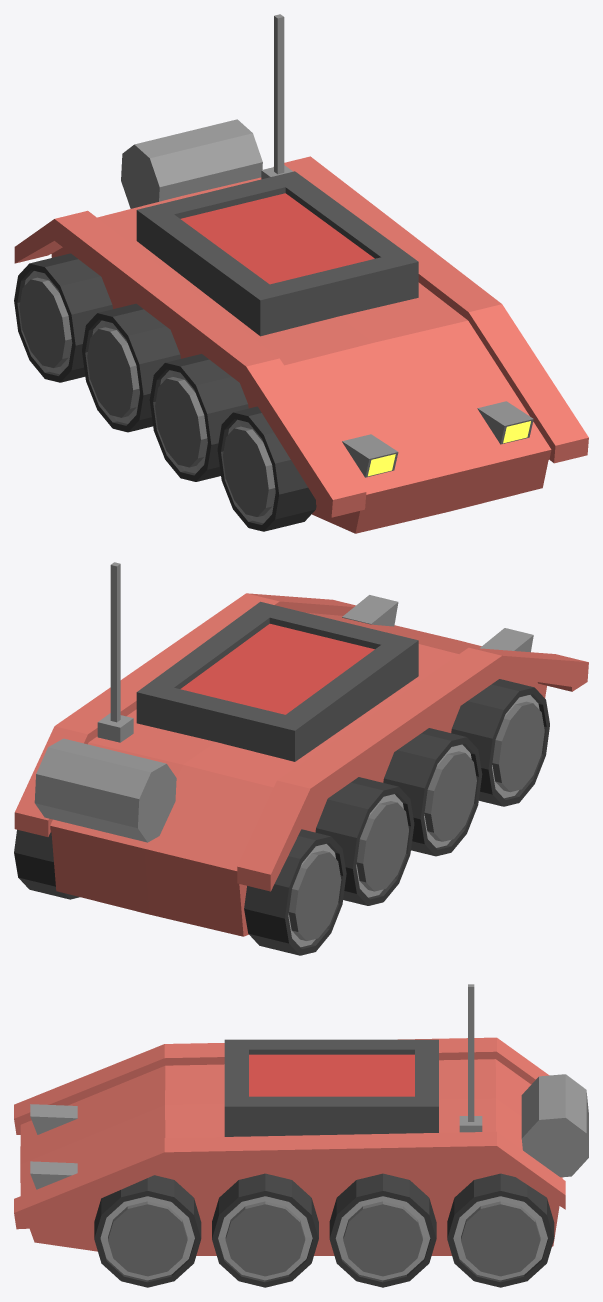
The model's file is ExplosiveTank.fbx.
3 renders of one model, top to bottom at view 1: azimuth 30°, elevation 25°; view 2: azimuth 150°, elevation 25°; view 3: azimuth 270°, elevation 25°, orthographic. The views are drawn at different scales.
Parts seen in each view (by area): view 1: Tank_Chassis, Tank_Wheel, Tank_ExplosiveCase, Tank_ExplosiveInner, Tank_DecorativeCylinder, Tank_DecorativeHeadlights, Tank_Antenna; view 2: Tank_Chassis, Tank_Wheel, Tank_ExplosiveCase, Tank_DecorativeCylinder, Tank_ExplosiveInner, Tank_DecorativeHeadlights, Tank_Antenna, Tank_AntennaBase; view 3: Tank_Chassis, Tank_Wheel, Tank_ExplosiveCase, Tank_ExplosiveInner, Tank_DecorativeCylinder, Tank_DecorativeHeadlights, Tank_Antenna.
Part boxes in pixels (bbox=[...]): Tank_Chassis: bbox=[14, 156, 588, 533]; Tank_Wheel: bbox=[14, 253, 316, 531]; Tank_ExplosiveCase: bbox=[136, 171, 418, 336]; Tank_ExplosiveInner: bbox=[181, 193, 374, 284]; Tank_DecorativeCylinder: bbox=[121, 119, 262, 208]; Tank_DecorativeHeadlights: bbox=[342, 401, 533, 477]; Tank_Antenna: bbox=[274, 14, 284, 174]; Tank_Chassis: bbox=[14, 593, 588, 936]; Tank_Wheel: bbox=[14, 679, 549, 955]; Tank_ExplosiveCase: bbox=[136, 601, 418, 761]; Tank_DecorativeCylinder: bbox=[34, 738, 176, 842]; Tank_ExplosiveInner: bbox=[180, 624, 374, 714]; Tank_DecorativeHeadlights: bbox=[342, 595, 533, 652]; Tank_Antenna: bbox=[110, 562, 120, 722]; Tank_AntennaBase: bbox=[97, 713, 133, 742]; Tank_Chassis: bbox=[14, 1037, 565, 1255]; Tank_Wheel: bbox=[94, 1173, 554, 1287]; Tank_ExplosiveCase: bbox=[224, 1039, 438, 1136]; Tank_ExplosiveInner: bbox=[249, 1054, 414, 1096]; Tank_DecorativeCylinder: bbox=[521, 1074, 588, 1177]; Tank_DecorativeHeadlights: bbox=[30, 1104, 77, 1189]; Tank_Antenna: bbox=[468, 984, 474, 1121].
Size of the model in its own units: 306 by 342 by 638.
